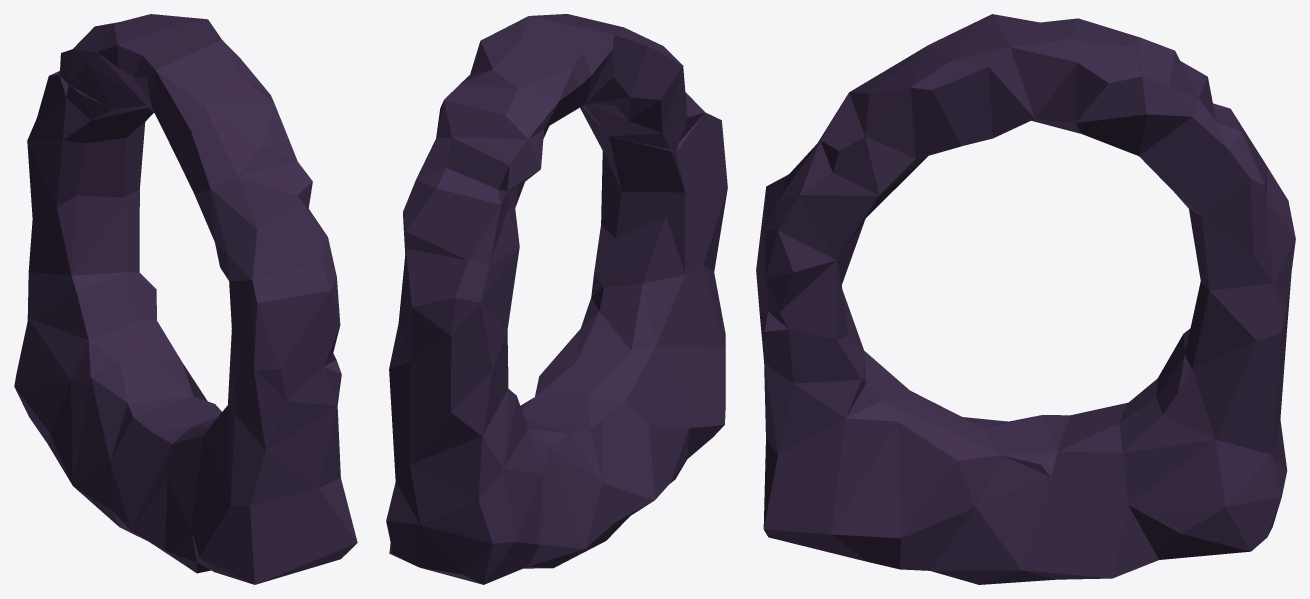
The model's file is EntryPortal.fbx.
The picture shows the model from 3 angles, left to right: view 1: azimuth 30°, elevation 25°; view 2: azimuth 150°, elevation 25°; view 3: azimuth 270°, elevation 25°; orthographic projection. The views are drawn at different scales.
Parts seen in each view (by area): view 1: EntryPortal; view 2: EntryPortal; view 3: EntryPortal.
Boxes of the visible parts, left/top/right/bottom form: EntryPortal: left=14, top=14, right=357, bottom=584; EntryPortal: left=386, top=14, right=727, bottom=584; EntryPortal: left=756, top=14, right=1295, bottom=584.
Size of the model in its own units: 187 by 609 by 561.
